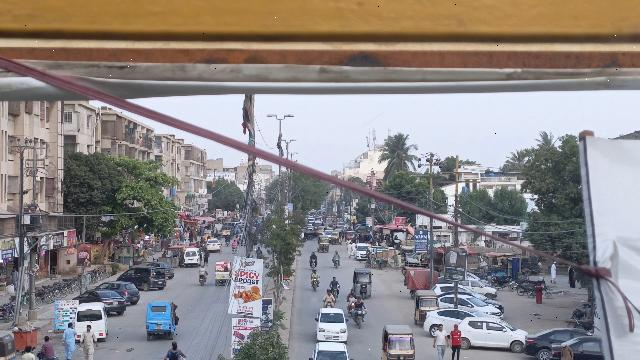Bike: (352, 307, 367, 329), (310, 276, 321, 294), (329, 286, 341, 301), (197, 273, 206, 287), (332, 257, 341, 269), (323, 300, 335, 308), (309, 258, 317, 270), (348, 302, 355, 314)
Car: (457, 315, 527, 352), (524, 325, 584, 358), (72, 288, 127, 315), (423, 307, 471, 336), (314, 305, 349, 344), (116, 265, 168, 291), (95, 280, 140, 304), (309, 341, 354, 360)
Person: (80, 323, 98, 360), (432, 324, 450, 358), (61, 321, 77, 359), (449, 324, 463, 360), (163, 340, 185, 360), (38, 335, 55, 360), (558, 340, 574, 360), (354, 296, 365, 312), (323, 289, 335, 302), (348, 289, 357, 302), (198, 265, 208, 276), (330, 276, 340, 287), (331, 249, 341, 259), (311, 269, 320, 278), (309, 251, 317, 260)
Rickshaw: (145, 300, 179, 342), (379, 324, 415, 360), (413, 288, 441, 326), (352, 266, 373, 299), (213, 260, 234, 286)
Van: (74, 301, 109, 342), (183, 247, 202, 267)
